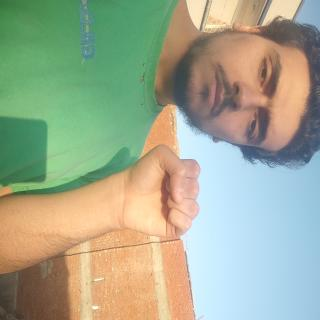SAD: (108, 157, 188, 276)
